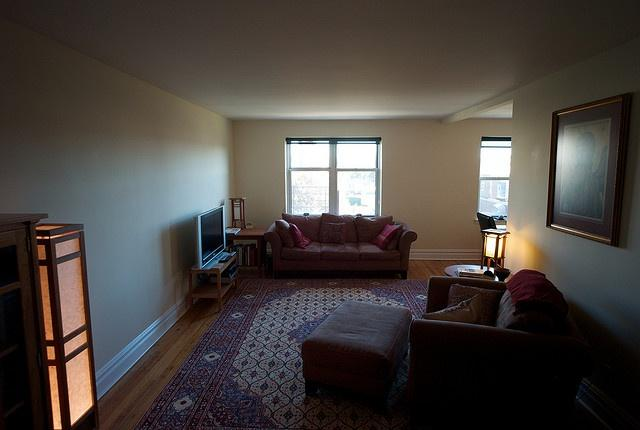AIO PC-Monitor-TV: (196, 204, 226, 271)
